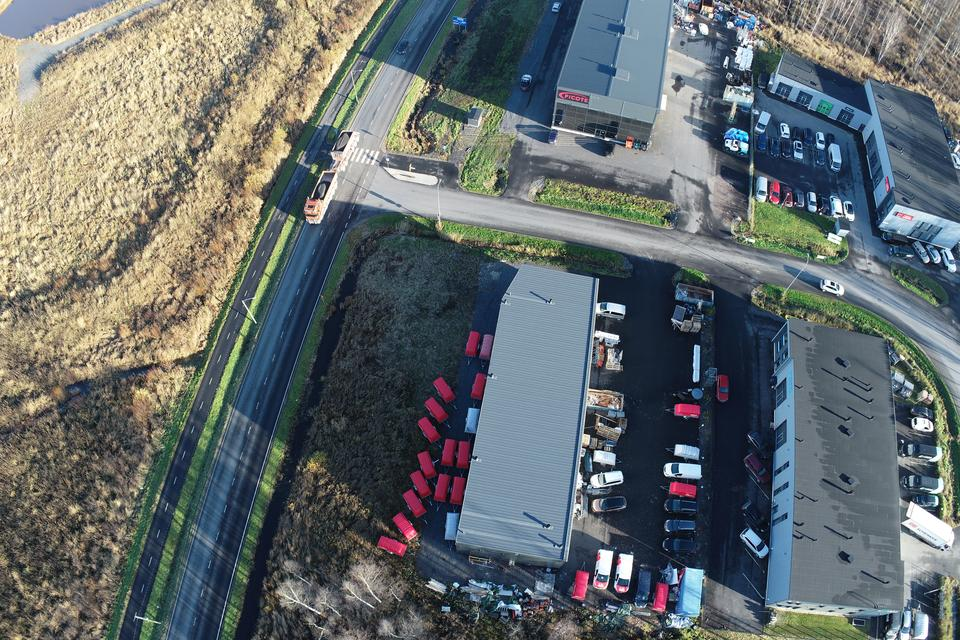intersection: (240, 122, 467, 260)
